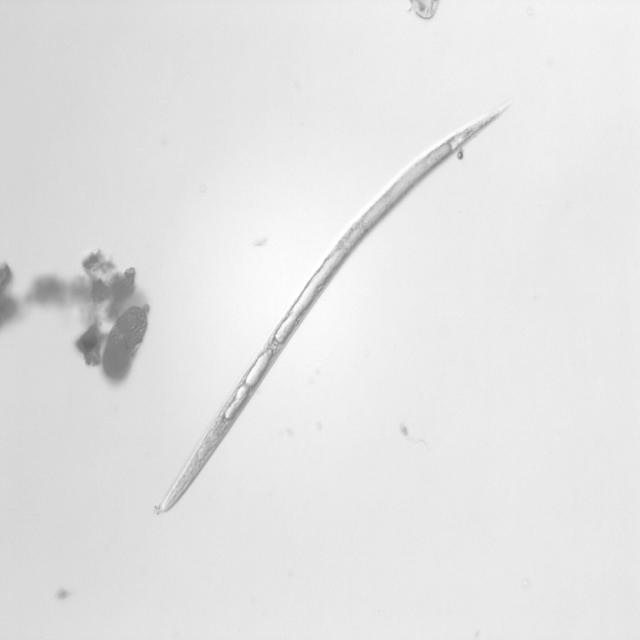Meloidogyne: (154, 97, 515, 515)
